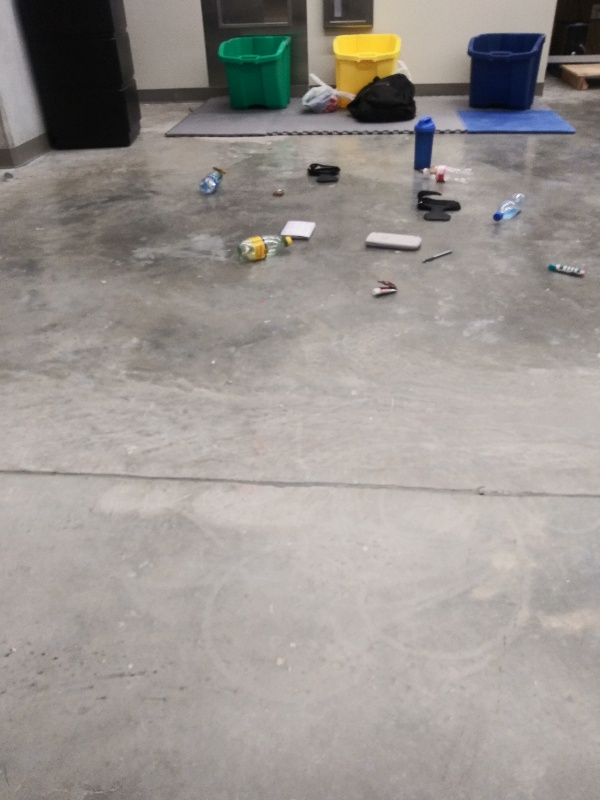bottle: (233, 231, 294, 269), (491, 189, 528, 225), (420, 164, 478, 185), (197, 167, 227, 199)
